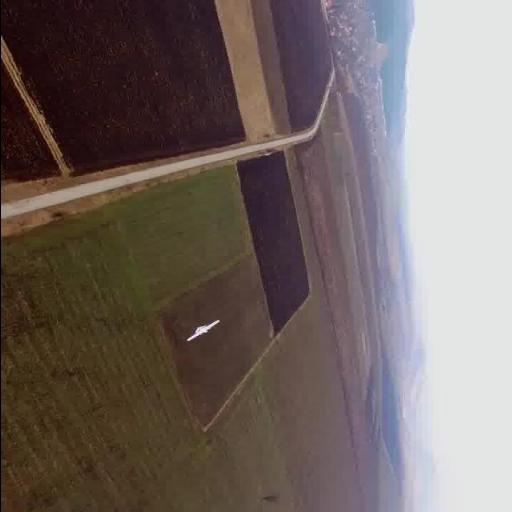uav: (178, 318, 226, 344)
